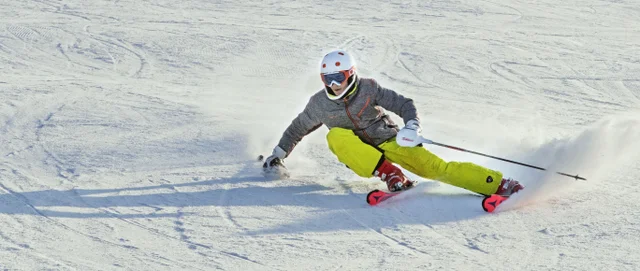skier: (253, 45, 558, 221)
